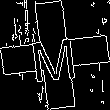M_N: (29, 27, 81, 83)
